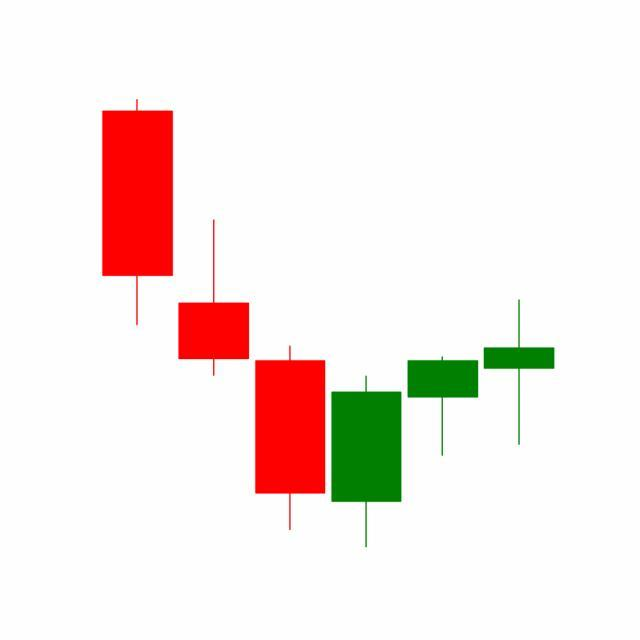Advance Block: (326, 297, 555, 549)
